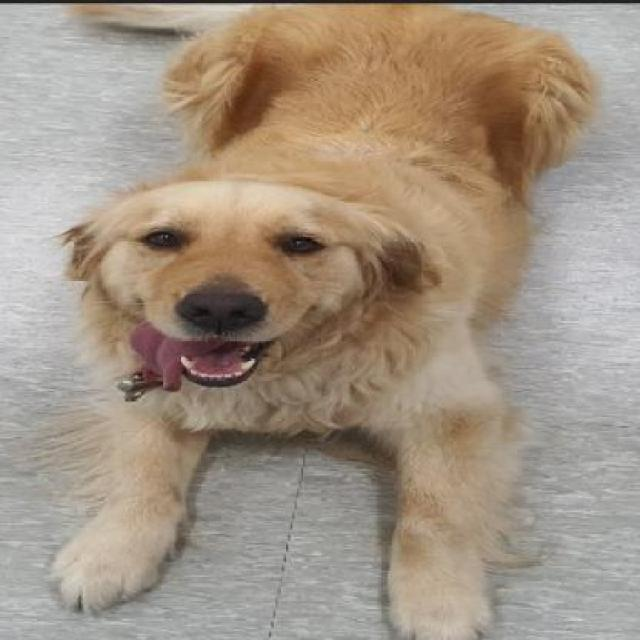Dog: (54, 4, 595, 638)
